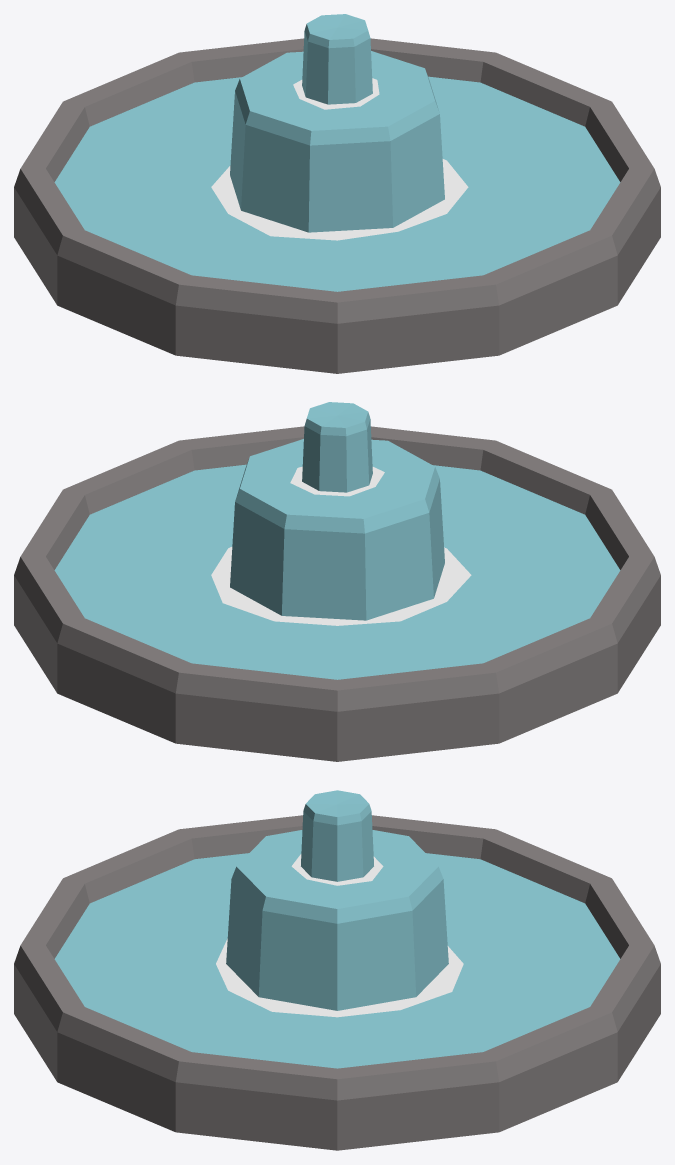
The model's file is fortune.glb.
3 views of the same model, one above another, from view 1: azimuth 30°, elevation 25°; view 2: azimuth 150°, elevation 25°; view 3: azimuth 270°, elevation 25° (orthographic).
Visible parts, largest first — view 1: fountain; view 2: fountain; view 3: fountain.
Part boxes in pixels (bbox=[...]): fountain: bbox=[14, 14, 660, 373]; fountain: bbox=[14, 402, 660, 761]; fountain: bbox=[14, 790, 660, 1150].
Size of the model in its own units: 5.98 by 2.14 by 5.98.
